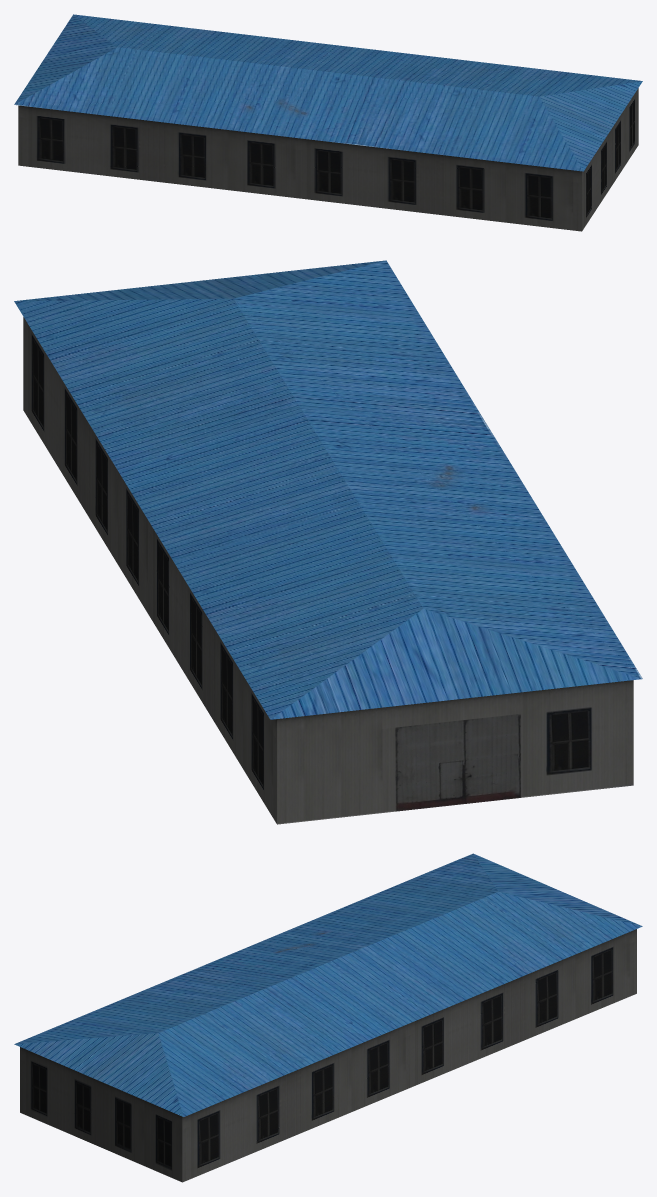
Rendered from factory.fbx.
3 views of the same model, one above another, from view 1: azimuth 30°, elevation 25°; view 2: azimuth 150°, elevation 25°; view 3: azimuth 270°, elevation 25° (orthographic). The views are drawn at different scales.
Parts seen in each view (by area): view 1: 3DXY_geometry_001; view 2: 3DXY_geometry_001; view 3: 3DXY_geometry_001.
Boxes of the visible parts, left/top/right/bottom form: 3DXY_geometry_001: left=14, top=14, right=642, bottom=231; 3DXY_geometry_001: left=14, top=260, right=642, bottom=824; 3DXY_geometry_001: left=14, top=853, right=642, bottom=1182.
Bounding box in the file's own units: 2407 × 386 × 2425.
Materials: 1 (1 with a texture image).
